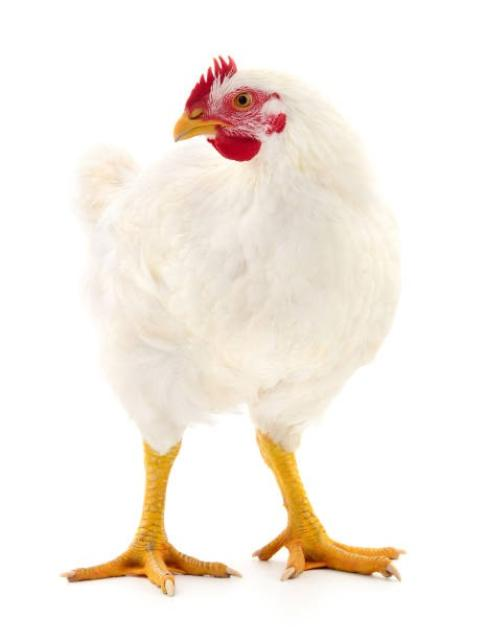Chicken: (55, 51, 410, 596)
